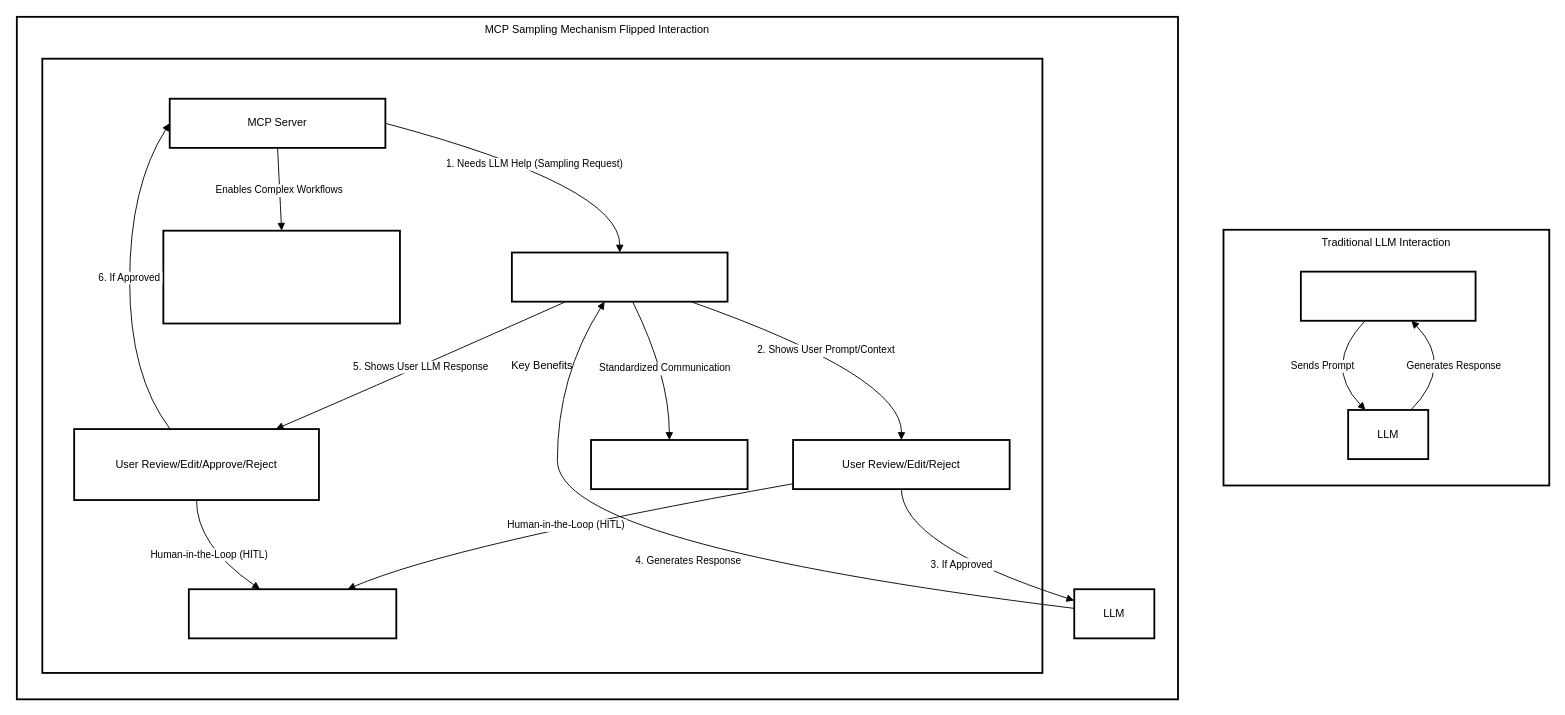
Some shapes in this 1565 by 715 pixel diagram are drawn without their labels. Here are the shapes that lost their labels. From the top down, the centre of each, then its label:
the point at 281,276: Smart Decisions, Structured Data, Multi-step Tasks
the point at 619,276: MCP Client (User-Facing)
the point at 1387,295: Application/Client
the point at 669,464: Interoperability
the point at 292,613: Transparency & Control
